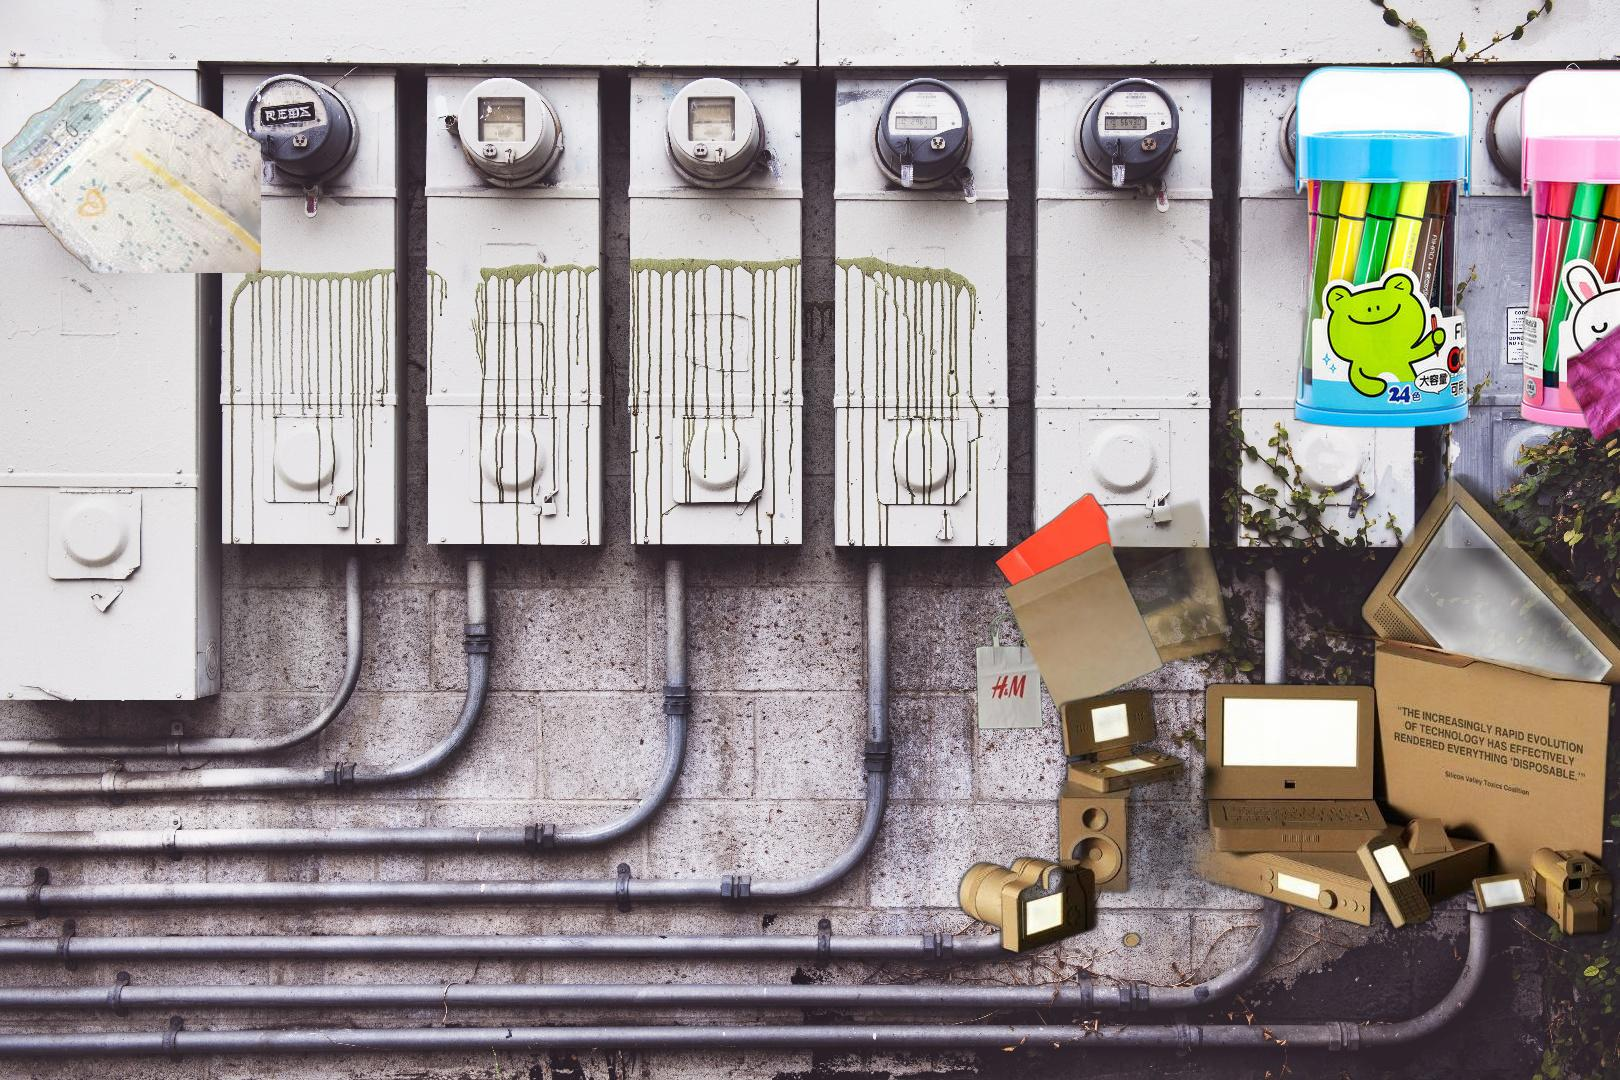clothes: (1567, 240, 1620, 655)
paper-bag: (964, 480, 1246, 695), (972, 540, 1166, 732)
penholder: (1290, 61, 1620, 433)
trash: (2, 80, 262, 272)
trashbox-cardboard: (951, 454, 1620, 993)
